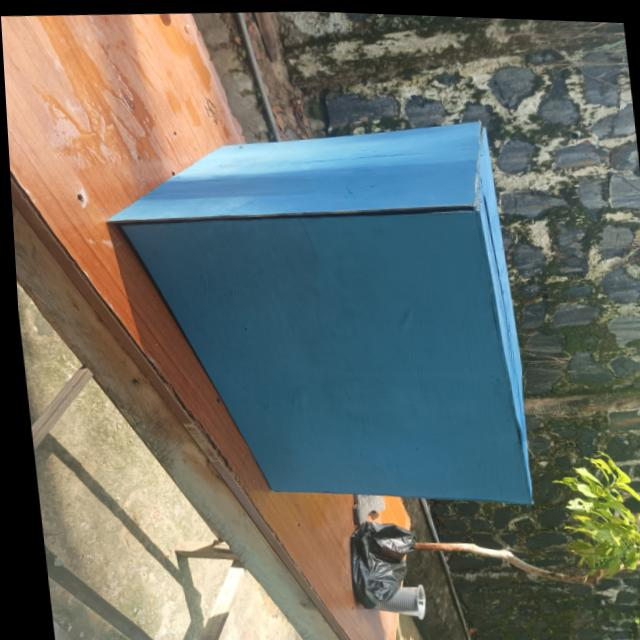blue_box: (50, 73, 588, 545)
